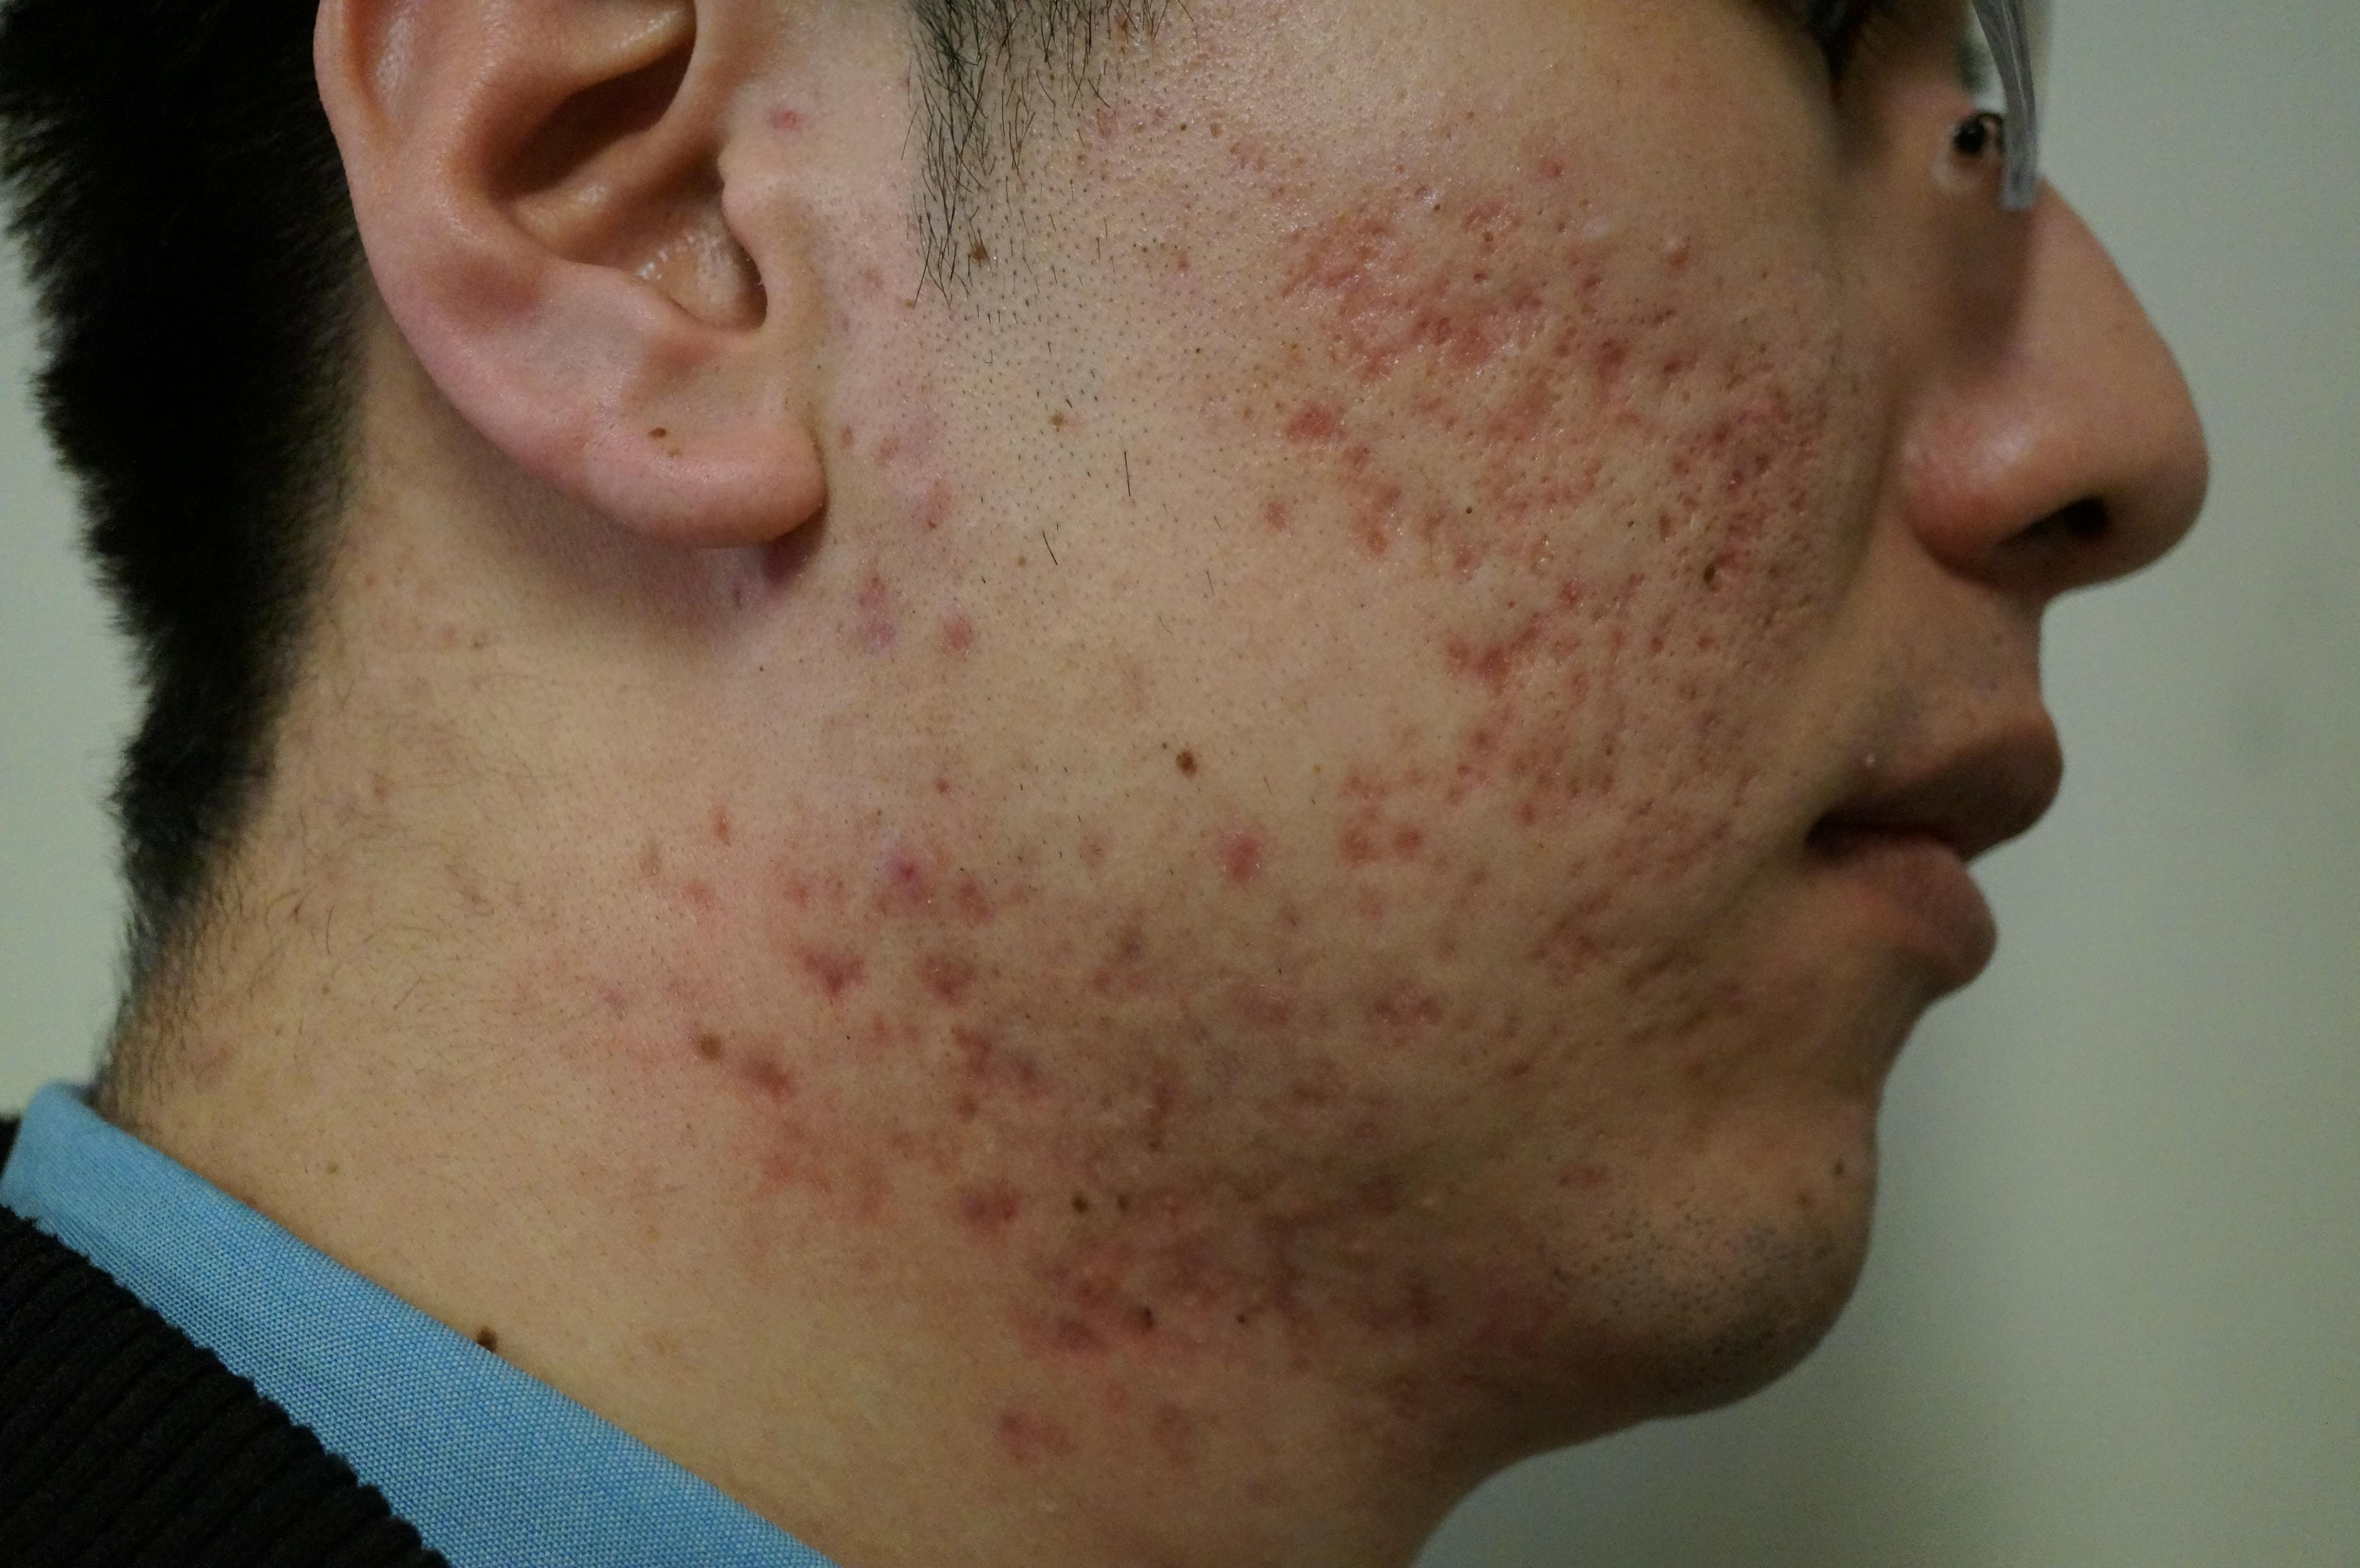fore: (1632, 786, 1784, 913), (1316, 968, 1477, 1076), (810, 549, 920, 693), (1632, 968, 1767, 1085), (1452, 712, 1580, 833), (1536, 721, 1672, 833), (1240, 369, 1356, 501), (1417, 597, 1540, 705), (1328, 1116, 1433, 1241), (1377, 250, 1477, 374), (894, 572, 997, 684), (1309, 478, 1405, 593), (1489, 226, 1573, 357), (761, 920, 869, 1020), (869, 469, 973, 572), (1548, 306, 1644, 406), (938, 996, 1032, 1095), (1505, 861, 1608, 952), (1188, 812, 1293, 901), (1113, 1041, 1200, 1132), (960, 1164, 1037, 1263), (1700, 357, 1797, 434), (1679, 401, 1751, 501), (829, 836, 925, 908), (1321, 808, 1449, 861), (910, 924, 981, 1004), (1700, 490, 1756, 584), (1237, 948, 1305, 1020), (1611, 908, 1685, 973), (1324, 1108, 1389, 1160)
